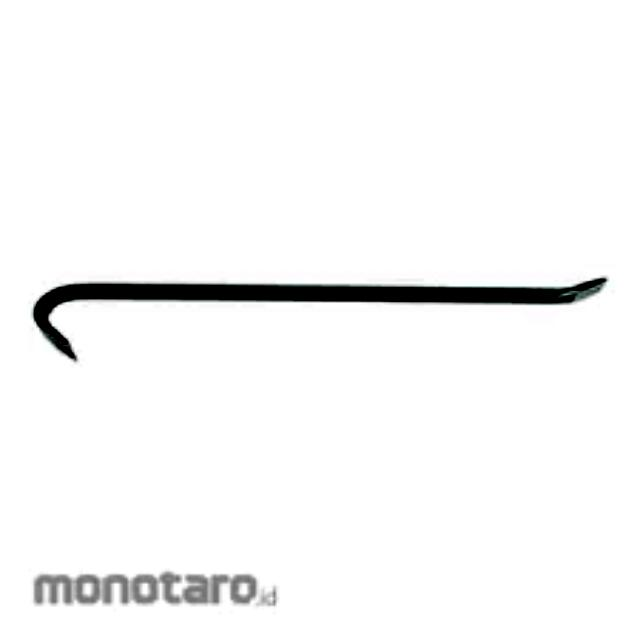crow bar: (28, 269, 612, 365)
